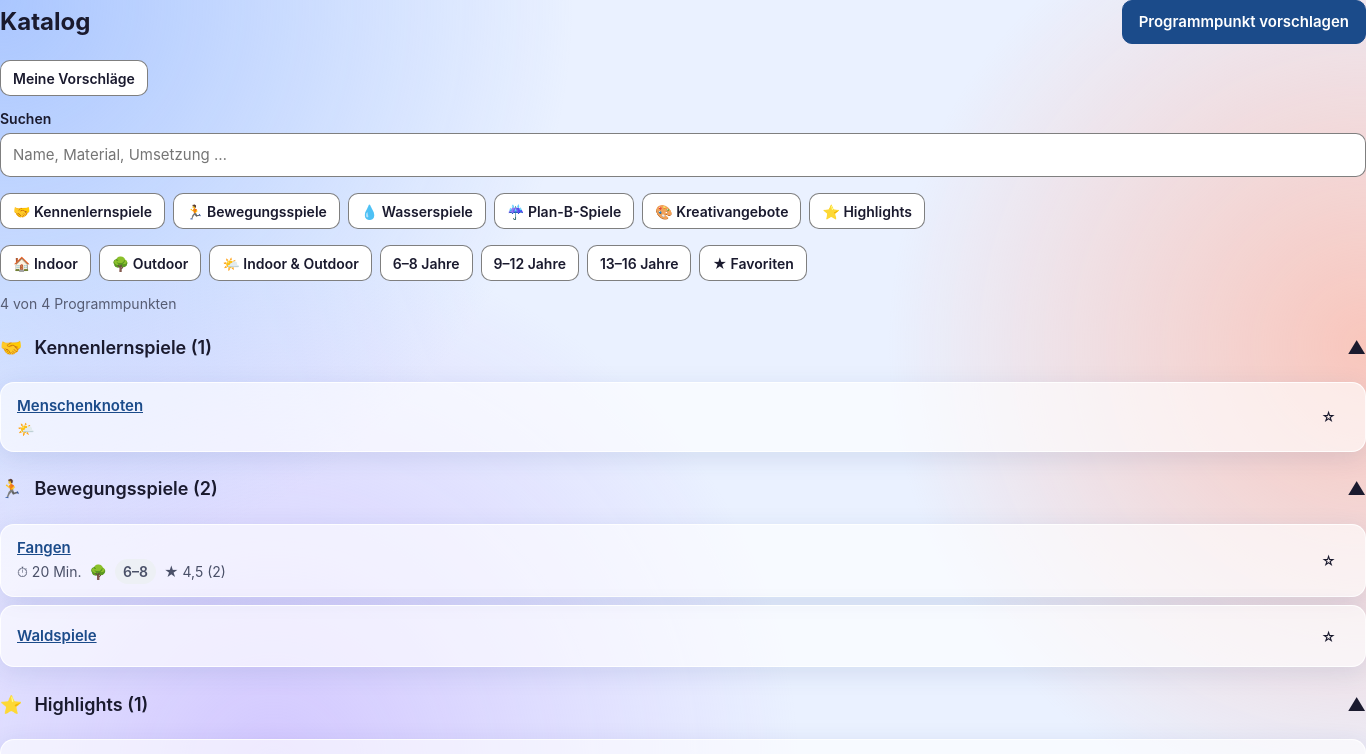
Katalog: Liste › ohne Treffer: Hinweis
Expected: the link "Fangen" is shown, x1=17 y1=536 x2=71 y2=559
Type "xyzxyz" into the search field labelled "Suchen". click: (683, 155)
box: x1=0 y1=133 x2=1365 y2=177
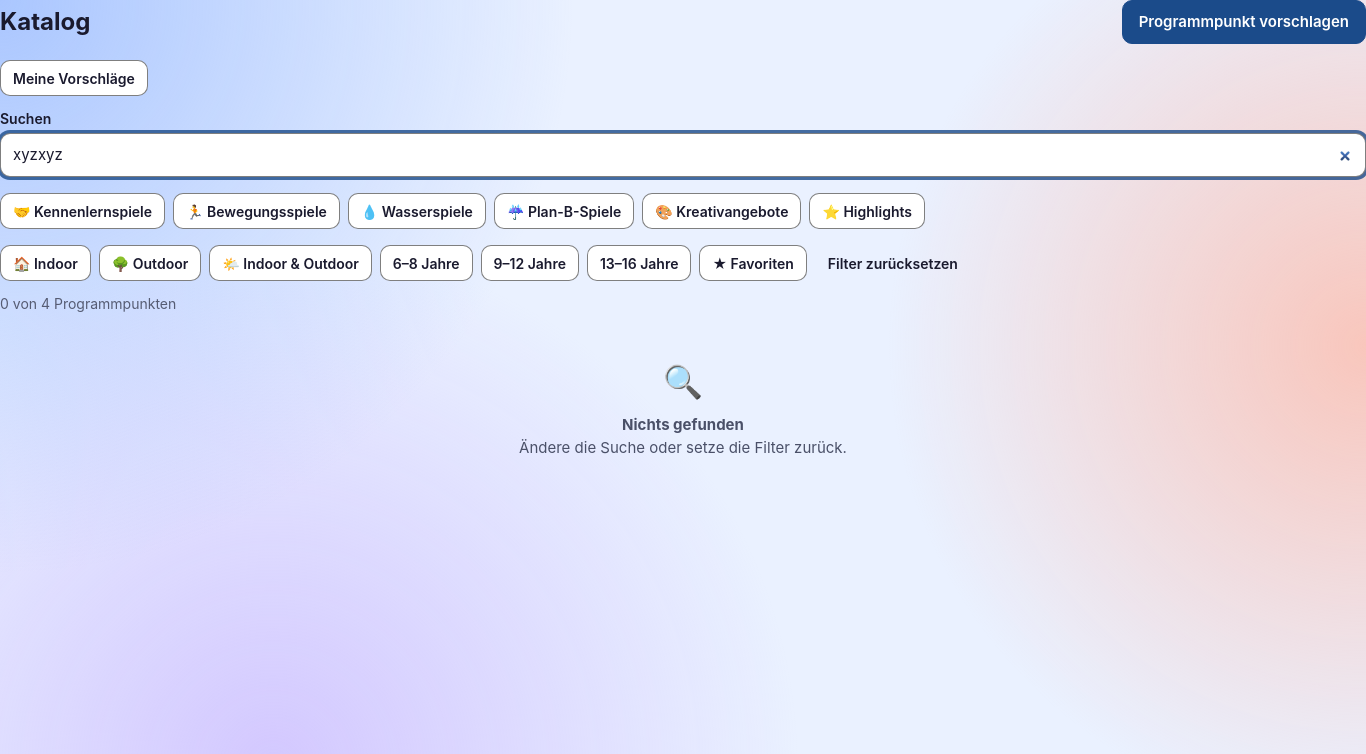
Now the text "Nichts gefunden" is shown, box x1=622 y1=415 x2=744 y2=434
